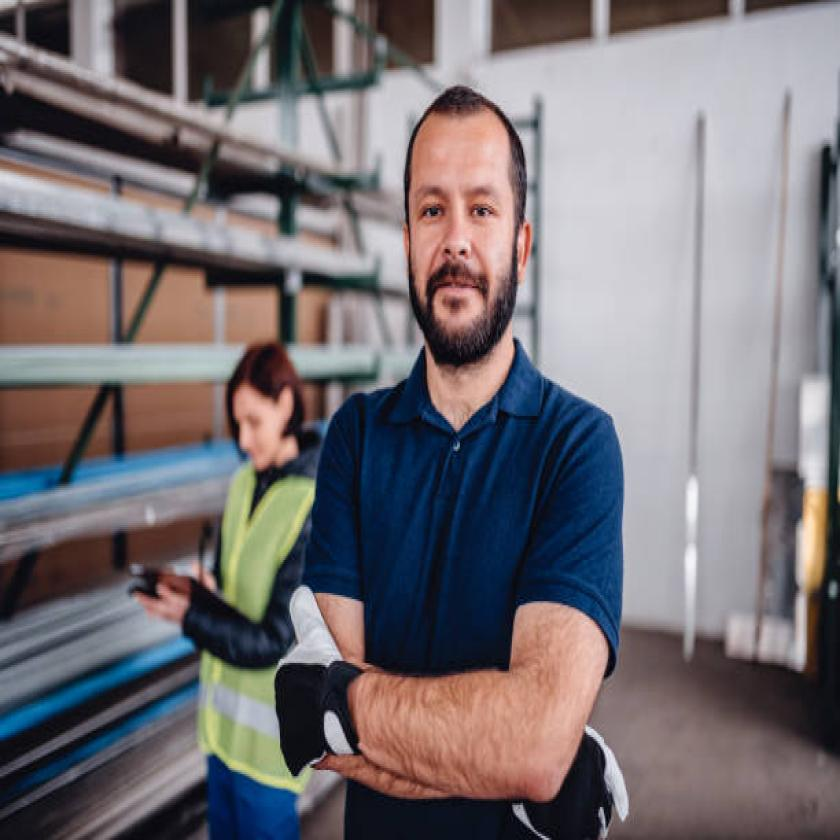Sin_casco: (383, 60, 549, 391), (206, 339, 317, 482)
